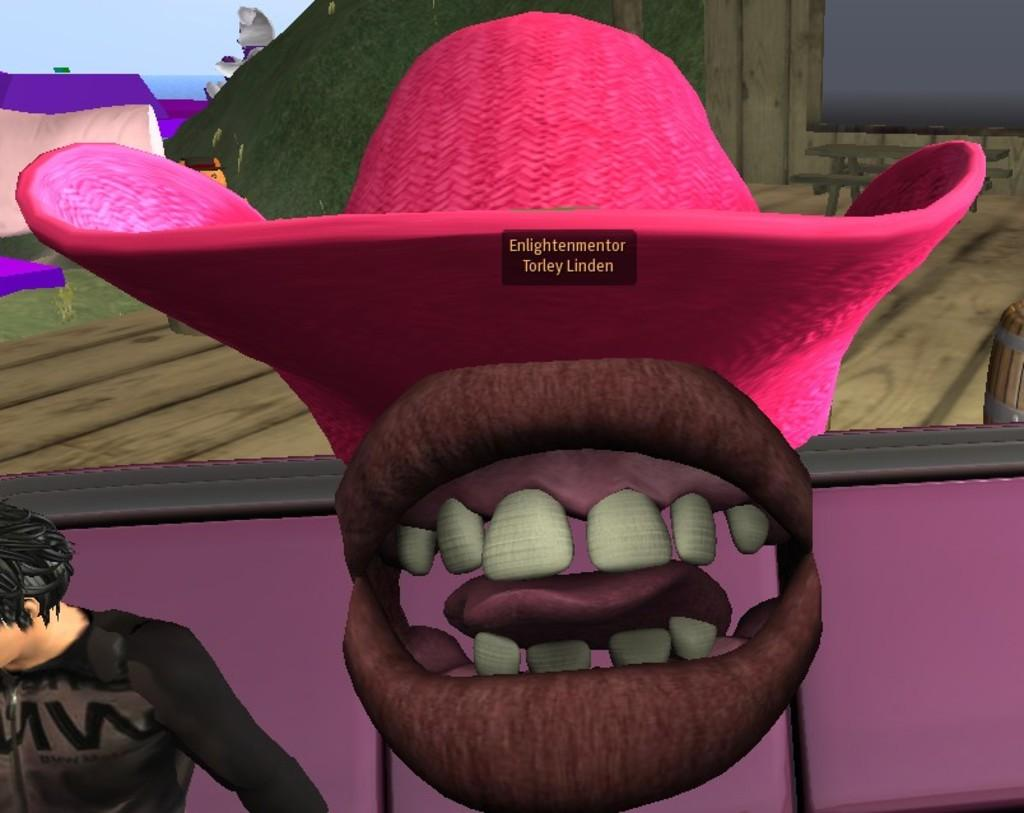Hat: (15, 4, 988, 458)
